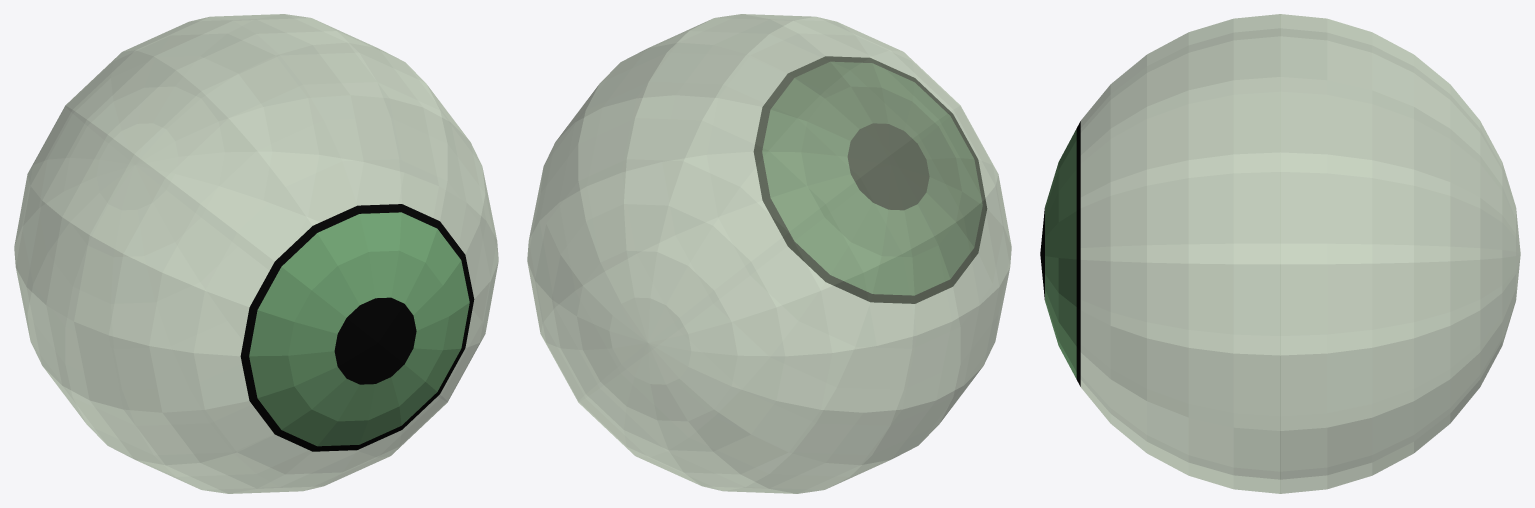
Rendered from Eyeball.glb.
3 renders of one model, left to right at view 1: azimuth 30°, elevation 25°; view 2: azimuth 150°, elevation 25°; view 3: azimuth 270°, elevation 25°, orthographic.
Visible parts, largest first — view 1: Sphere; view 2: Sphere; view 3: Sphere.
Boxes of the visible parts, x1,y1,x2,y2 form: Sphere: (14,14,498,493); Sphere: (527,14,1011,493); Sphere: (1040,14,1520,493).
Bounding box in the file's own units: 2 × 2 × 2.
